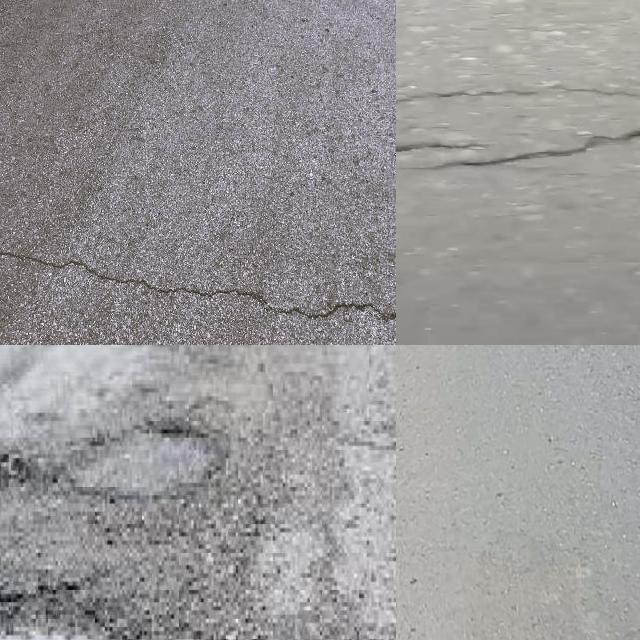Lubang: (62, 434, 240, 503), (0, 454, 38, 503)
Melintang: (0, 246, 396, 332), (396, 123, 640, 182)
